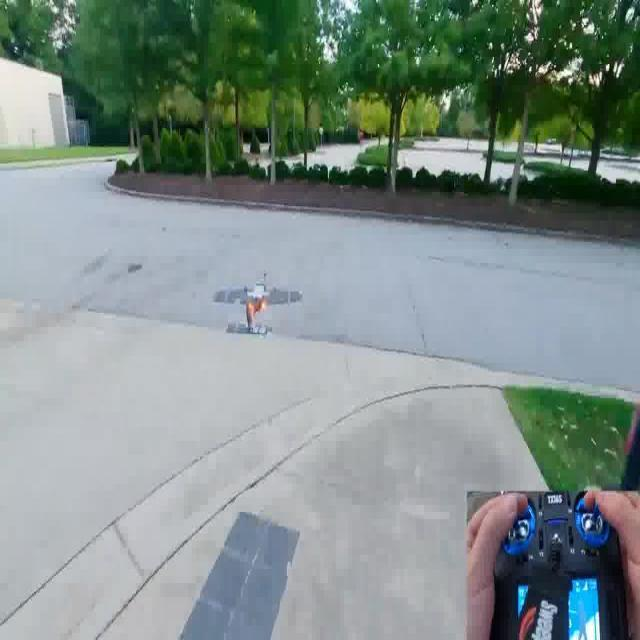iha: (238, 287, 275, 321)
